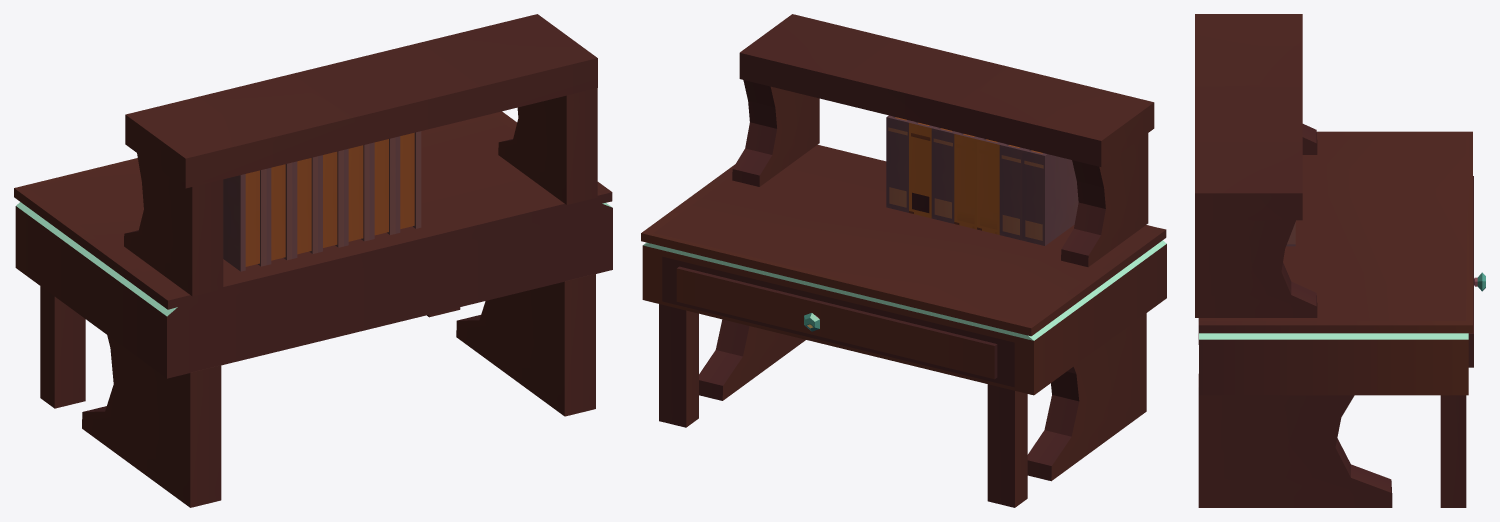
Rendered from Furniture_Desk03.fbx.
3 renders of one model, left to right at view 1: azimuth 30°, elevation 25°; view 2: azimuth 150°, elevation 25°; view 3: azimuth 270°, elevation 25°, orthographic. The views are drawn at different scales.
Parts seen in each view (by area): view 1: Cube.358; view 2: Cube.358; view 3: Cube.358.
Part boxes in pixels (box(x1,y1,x2,y2)): Cube.358: box(14, 14, 612, 507); Cube.358: box(641, 14, 1166, 507); Cube.358: box(1195, 14, 1485, 507).
Size of the model in its own units: 84.62 by 63.92 by 53.59.
